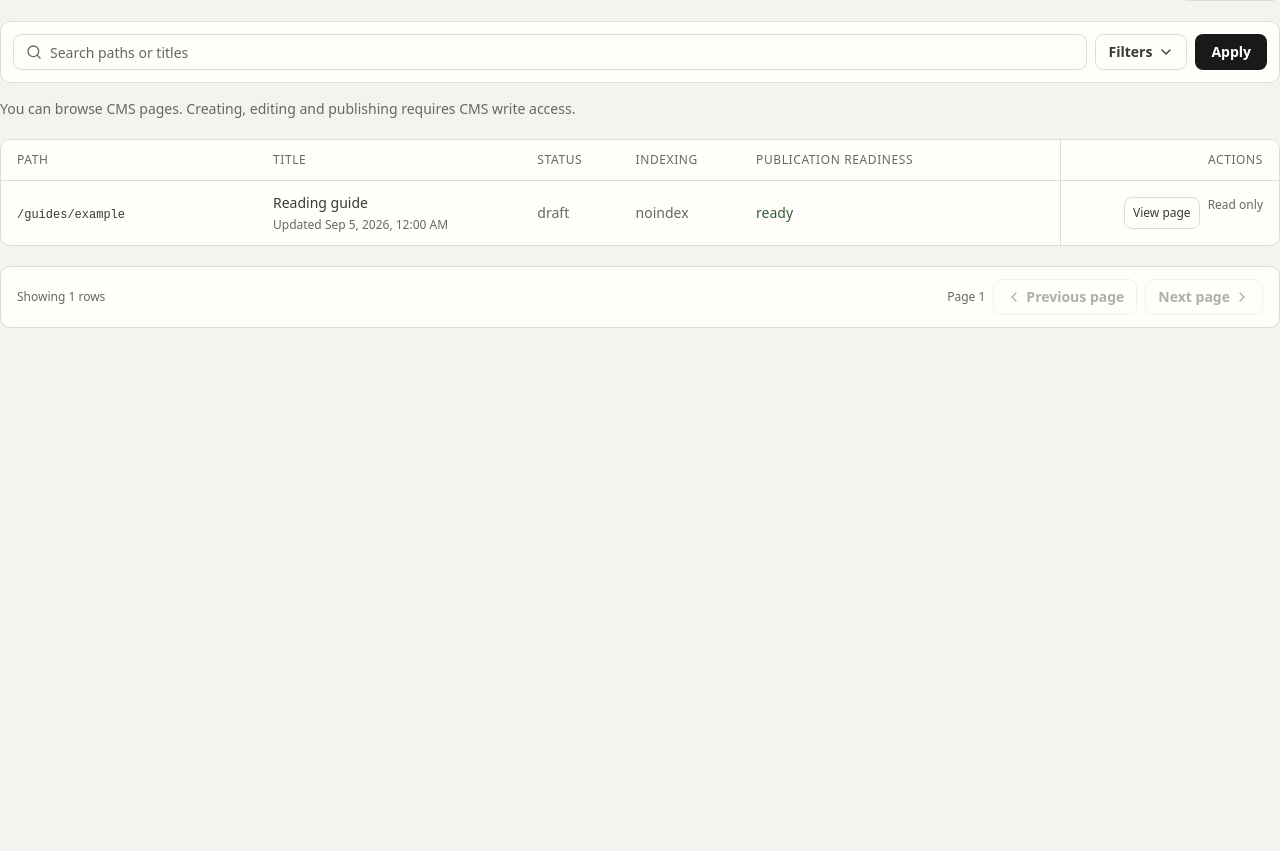
CMS operating permissions and article fields › lets a reader inspect article content without offering write operations
What coordinates should you click on to do the following:
click the button "View page"
I would click on:
 (1162, 213)
Its box is [1124,197,1200,229].
(page scrolled)
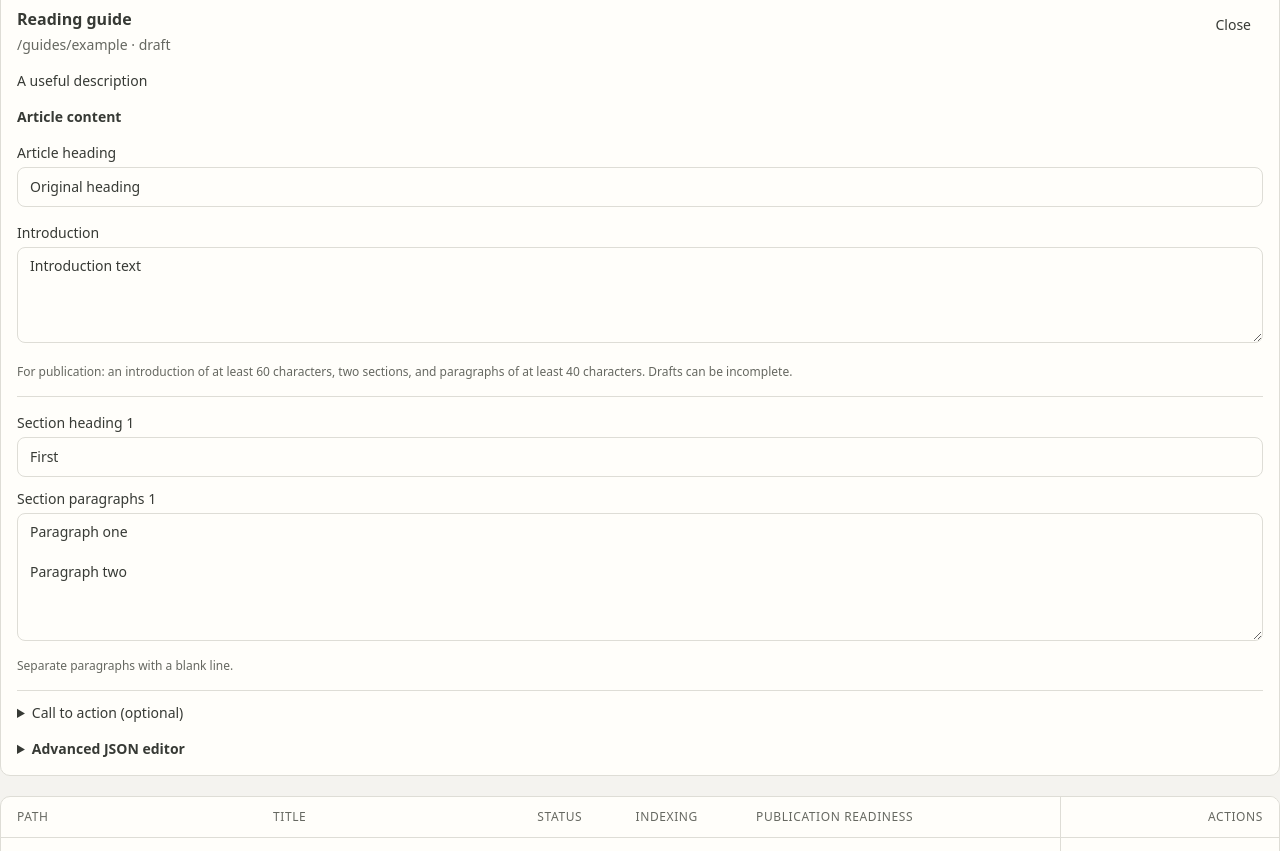
Expected: the field labelled "Article heading" holds "Original heading", [17,167,1263,207]
Expected: the element that starts with "Article content" is disabled
